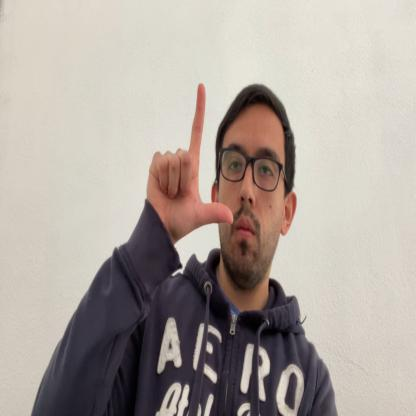L: (146, 82, 234, 242)
